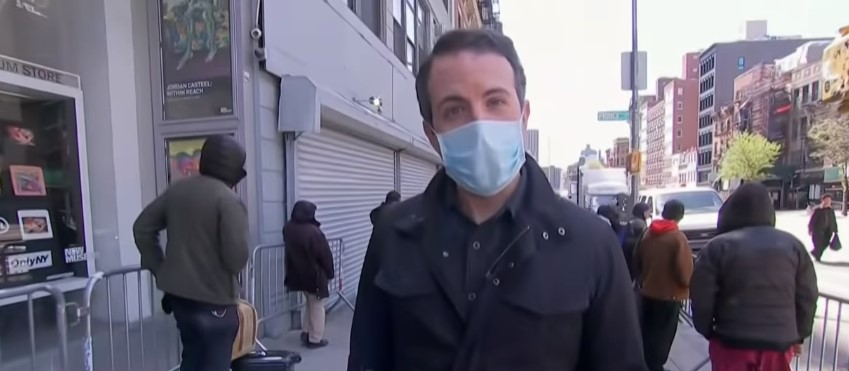face_with_mask: (415, 28, 535, 198)
